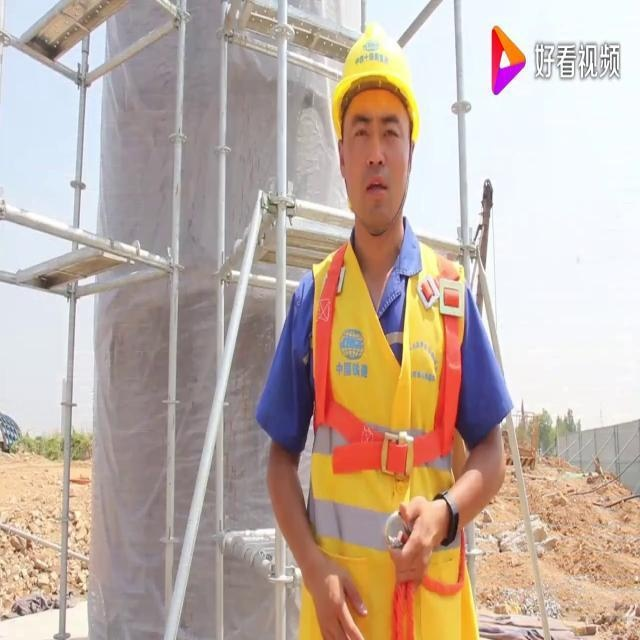Arnes_seguridad: (307, 223, 470, 536)
